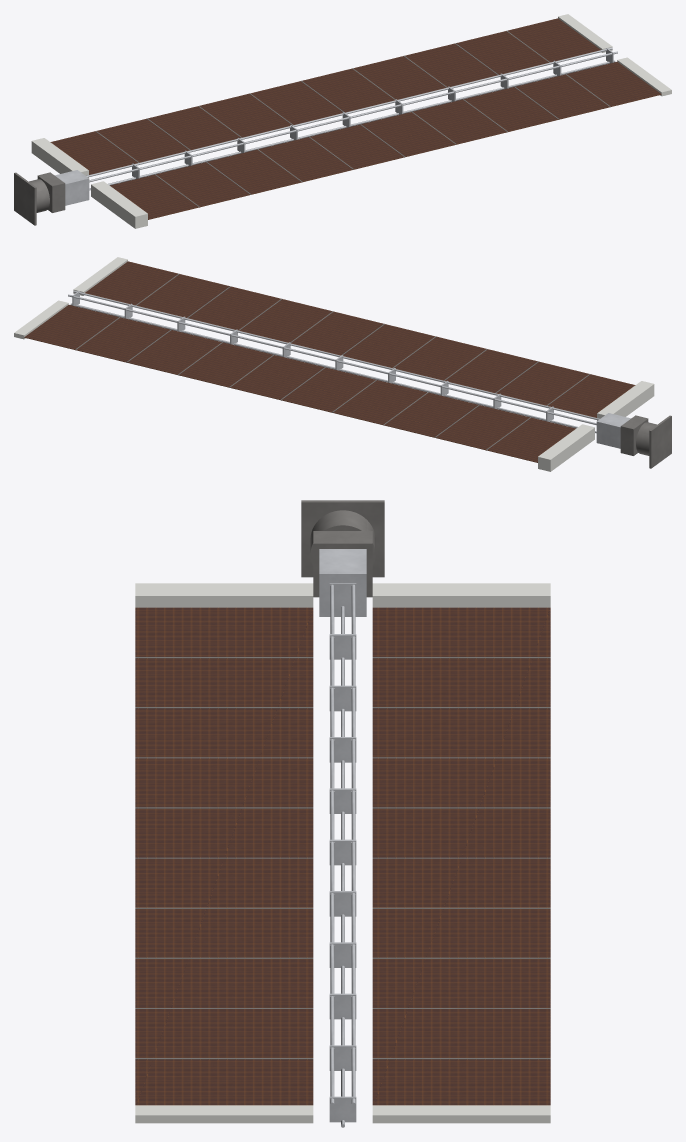
File: power01_solar_wing_deployed.glb
3 renders of one model, top to bottom at view 1: azimuth 30°, elevation 25°; view 2: azimuth 150°, elevation 25°; view 3: azimuth 270°, elevation 25°, orthographic. The views are drawn at different scales.
Visible parts, largest first — view 1: blankets, mast, blanket_boxes, beta_gimbal, hinge_lines, tip_lids, mast_canister; view 2: blankets, mast, blanket_boxes, beta_gimbal, hinge_lines, tip_lids, mast_canister; view 3: blankets, mast, blanket_boxes, tip_lids, hinge_lines, beta_gimbal, mast_canister.
Part boxes in pixels (left/top/right/bottom): blankets: left=50, top=18, right=661, bottom=219; mast: left=86, top=47, right=617, bottom=190; blanket_boxes: left=31, top=138, right=147, bottom=228; beta_gimbal: left=14, top=172, right=65, bottom=225; hinge_lines: left=95, top=30, right=610, bottom=207; tip_lids: left=558, top=14, right=671, bottom=96; mast_canister: left=55, top=170, right=89, bottom=205; blankets: left=24, top=261, right=635, bottom=462; mast: left=68, top=290, right=599, bottom=433; blanket_boxes: left=538, top=381, right=654, bottom=471; beta_gimbal: left=620, top=415, right=671, bottom=468; hinge_lines: left=75, top=273, right=590, bottom=450; tip_lids: left=14, top=257, right=127, bottom=339; mast_canister: left=596, top=413, right=630, bottom=448; blankets: left=135, top=607, right=550, bottom=1105; mast: left=329, top=583, right=356, bottom=1127; blanket_boxes: left=135, top=583, right=550, bottom=607; tip_lids: left=135, top=1105, right=550, bottom=1123; hinge_lines: left=135, top=657, right=550, bottom=1059; beta_gimbal: left=301, top=500, right=384, bottom=597; mast_canister: left=319, top=549, right=366, bottom=616.
Bounding box in the file's own units: 23.2 × 1.4 × 7.
4 materials, 3 textured.
